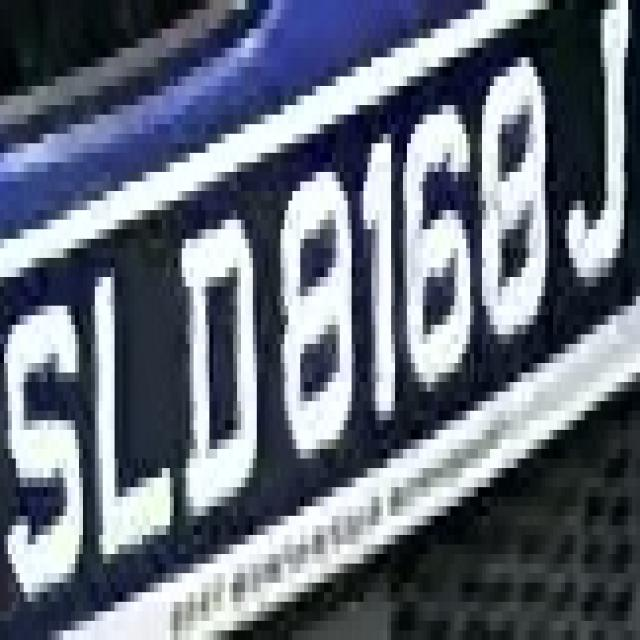1: (363, 67, 403, 430)
6: (387, 86, 482, 420)
8: (276, 143, 360, 478), (466, 58, 553, 372)
D: (162, 191, 261, 525)
J: (549, 0, 624, 306)
L: (83, 210, 182, 554)
S: (12, 239, 91, 611)
